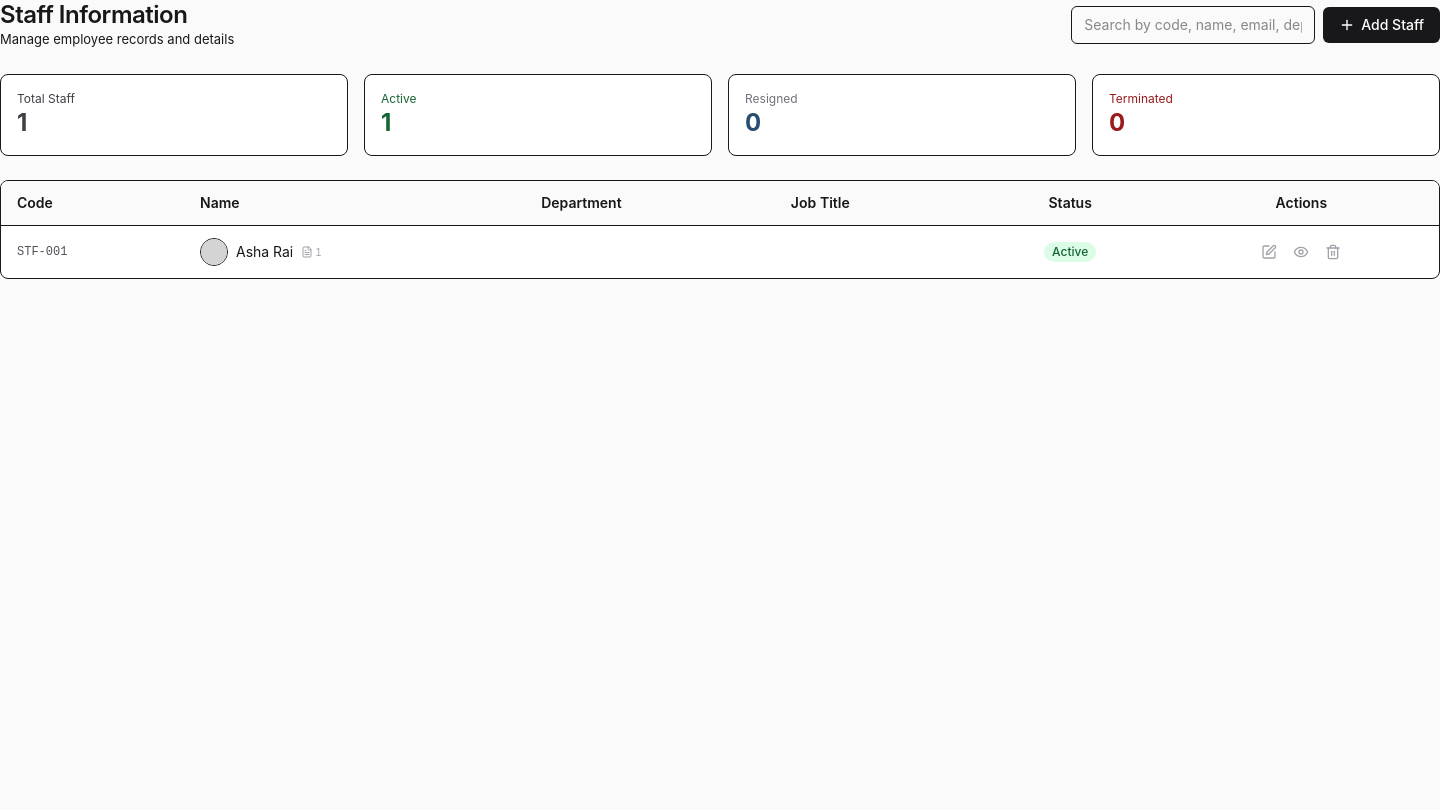
Scenario: staff photo and documents › shows the photo and lets the documents be viewed from the profile
Step 1. Click the button titled "View" → (1301, 252), box [1287,238,1315,266]
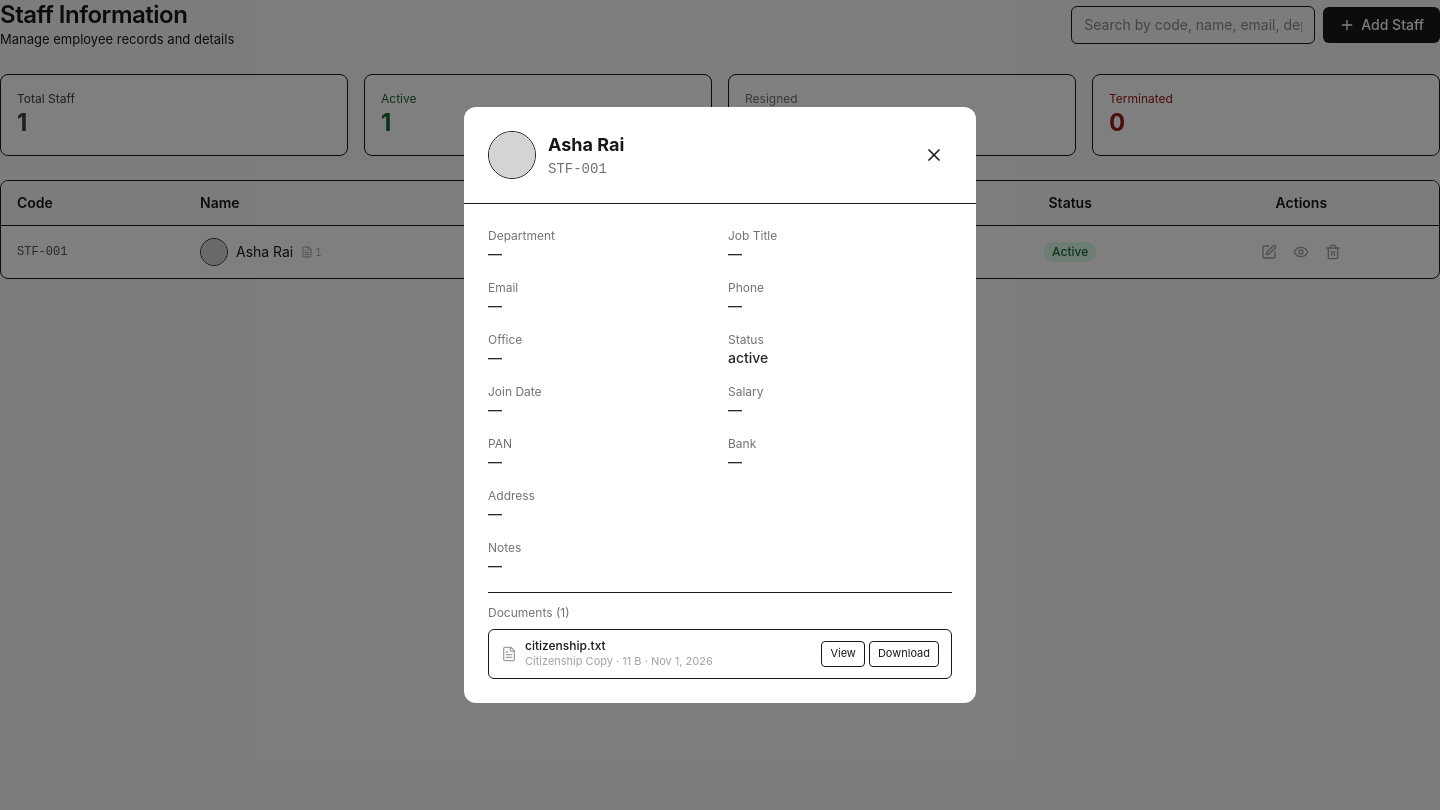
Check: the element with test id "staff-documents" shows "citizenship.txt", box [525,638,606,653]
Check: the element with test id "staff-documents" shows "Citizenship Copy", box [525,654,613,668]
Step 2. Click the button "View" → (843, 654), box [821,641,865,667]
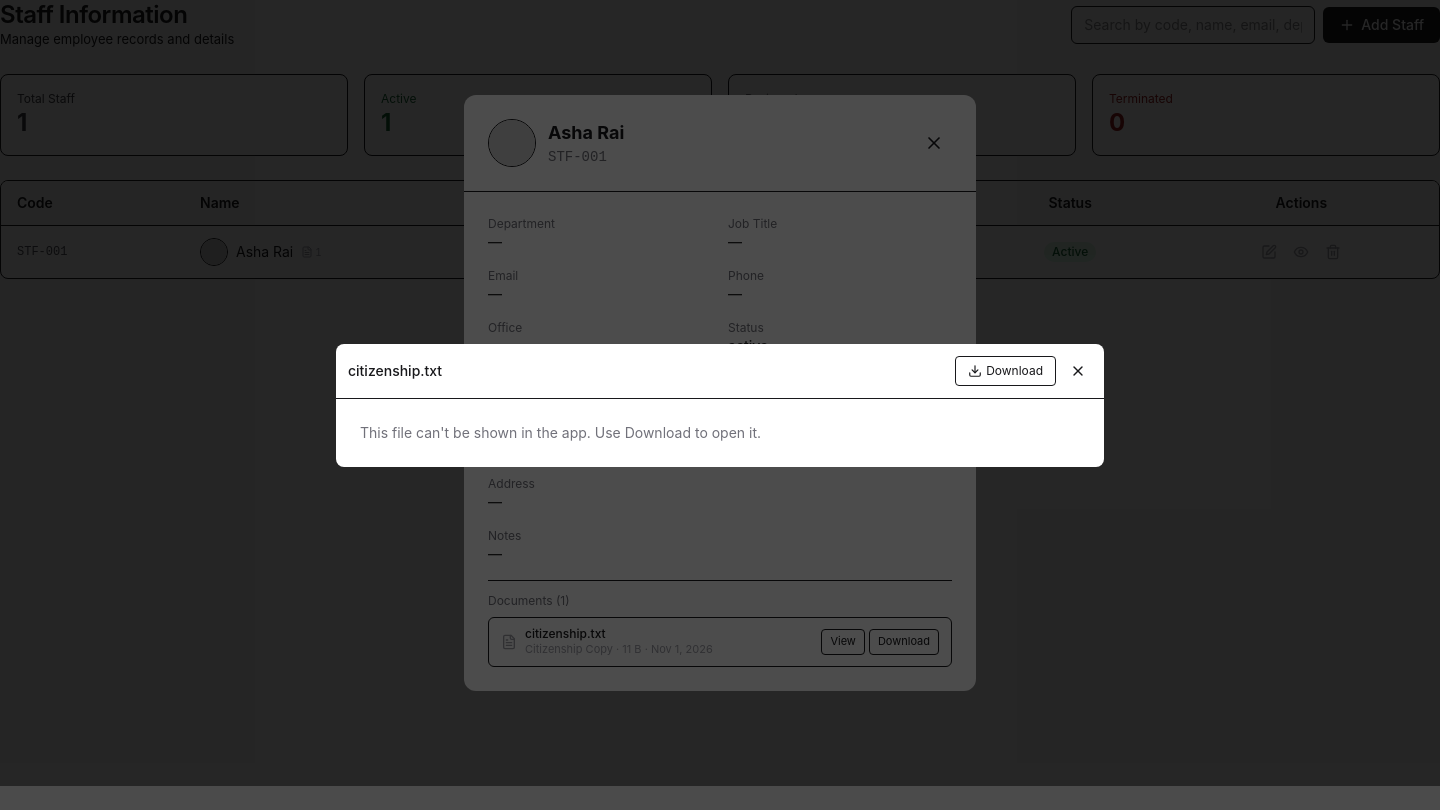
Check: the element with test id "doc-preview" is shown
Check: the element with test id "doc-preview" shows "citizenship.txt", box [348,362,442,378]
